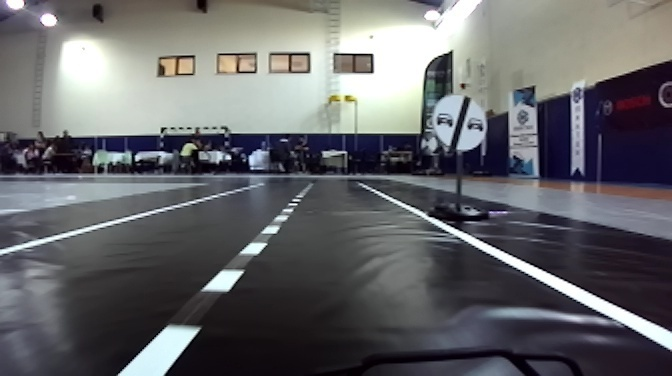sollama_serbest: (430, 93, 488, 151)
